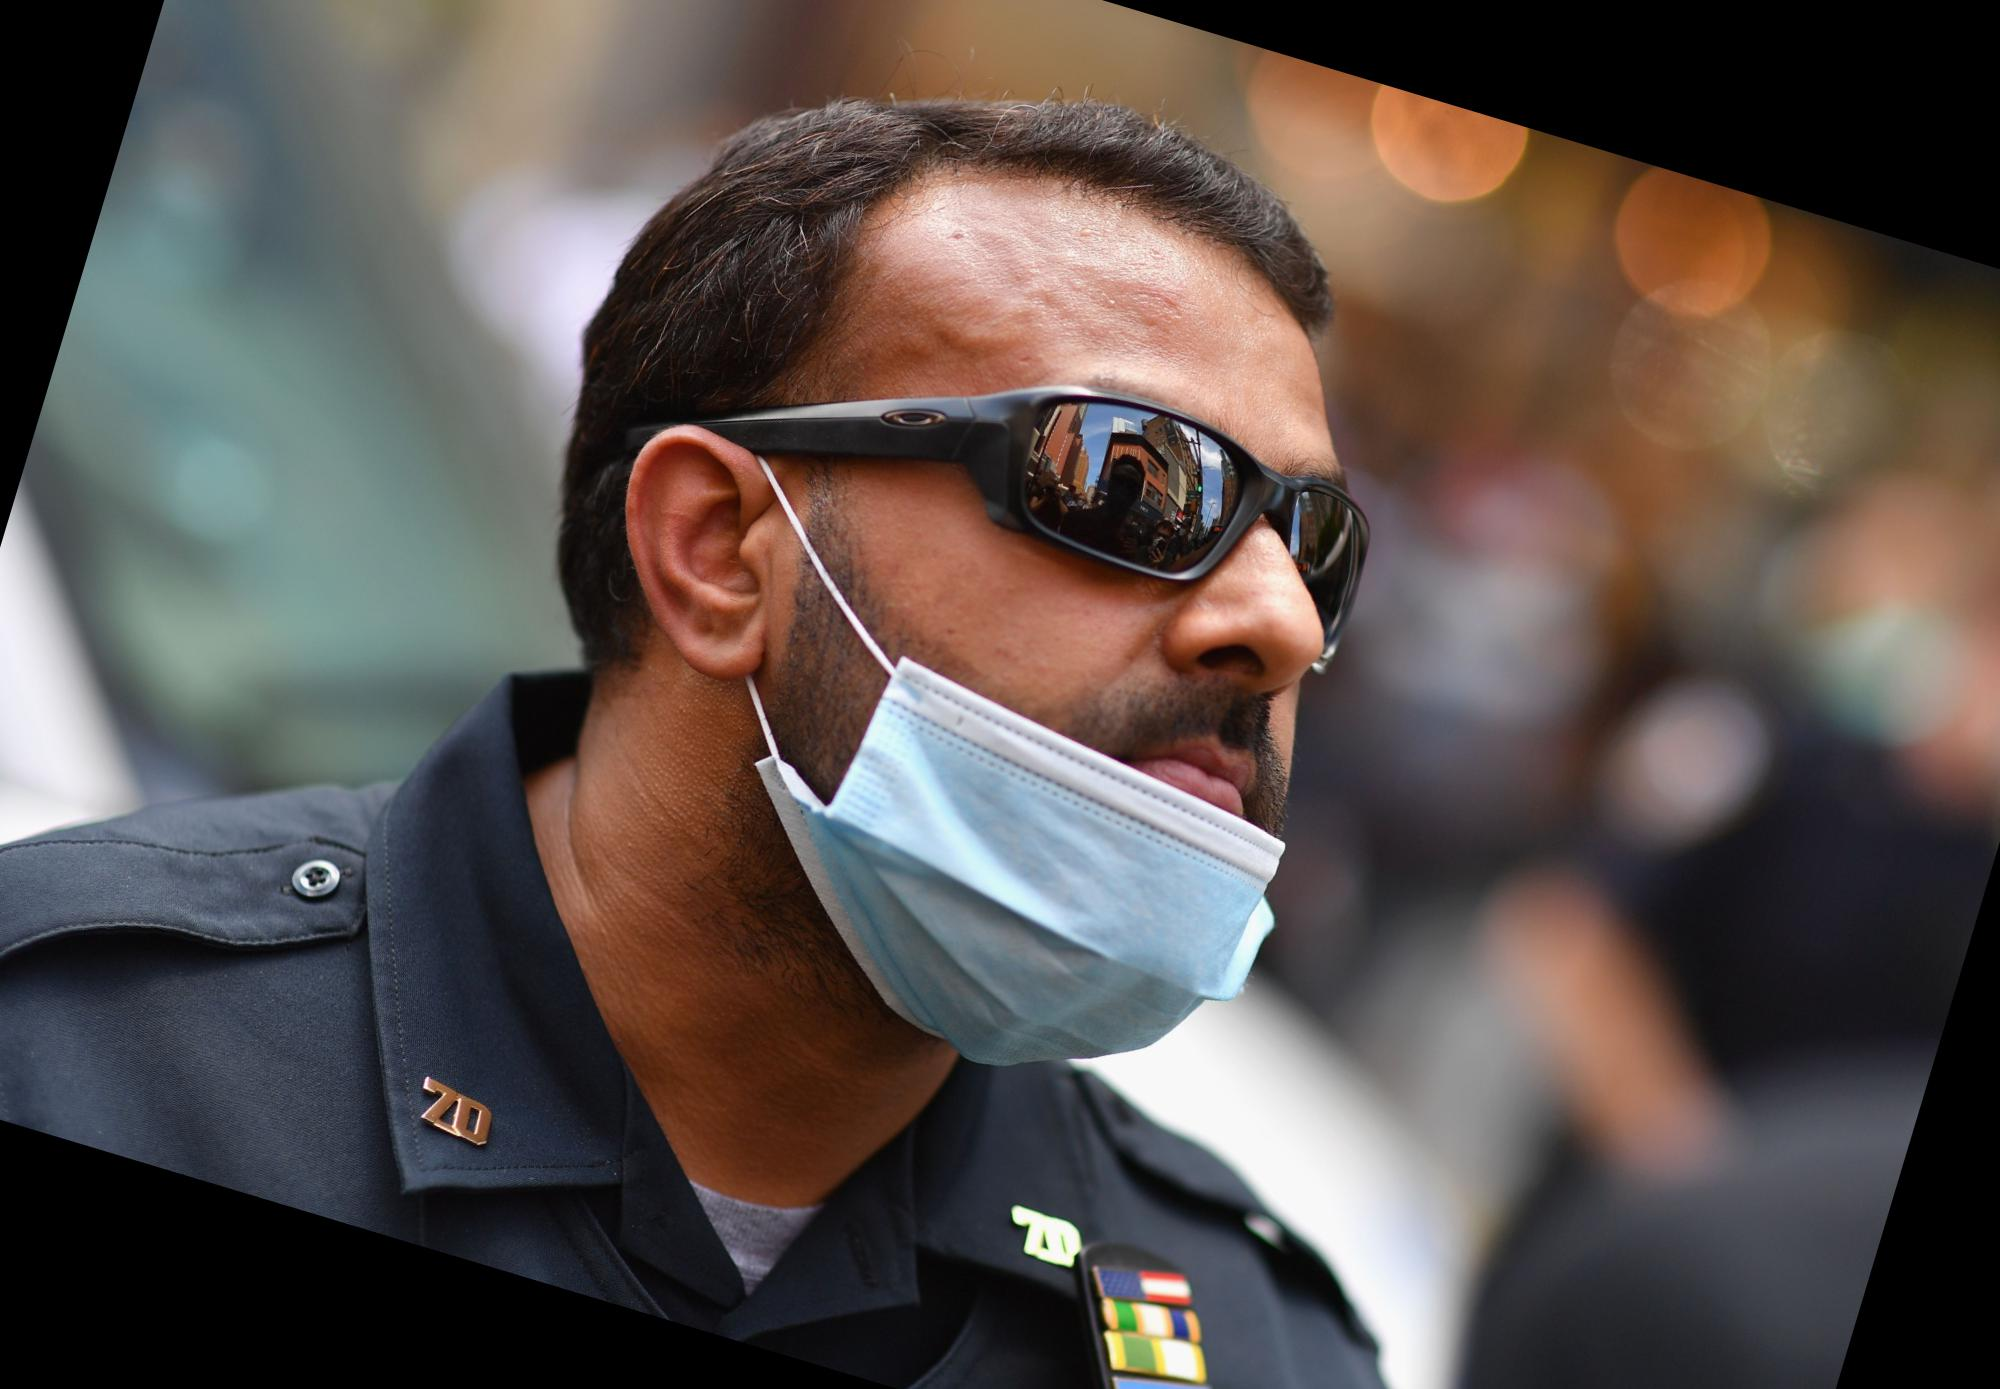mask_weared_incorrect: (754, 345, 1382, 1015)
